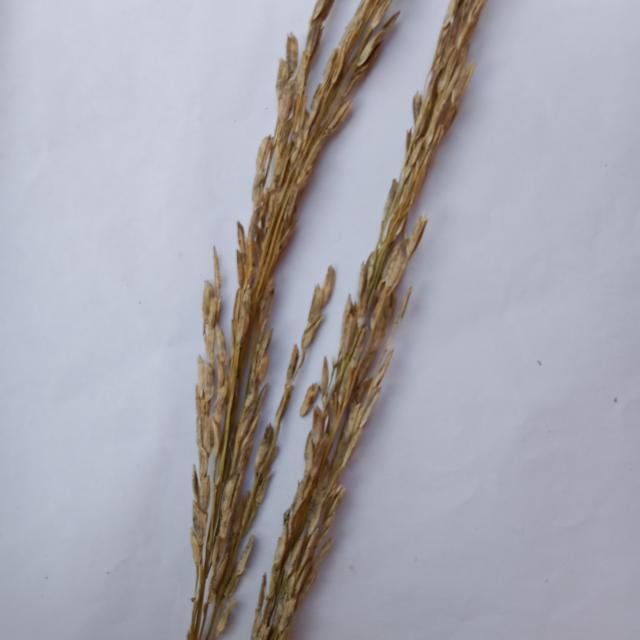Neck_Blast: (256, 34, 476, 640), (190, 9, 393, 640)
